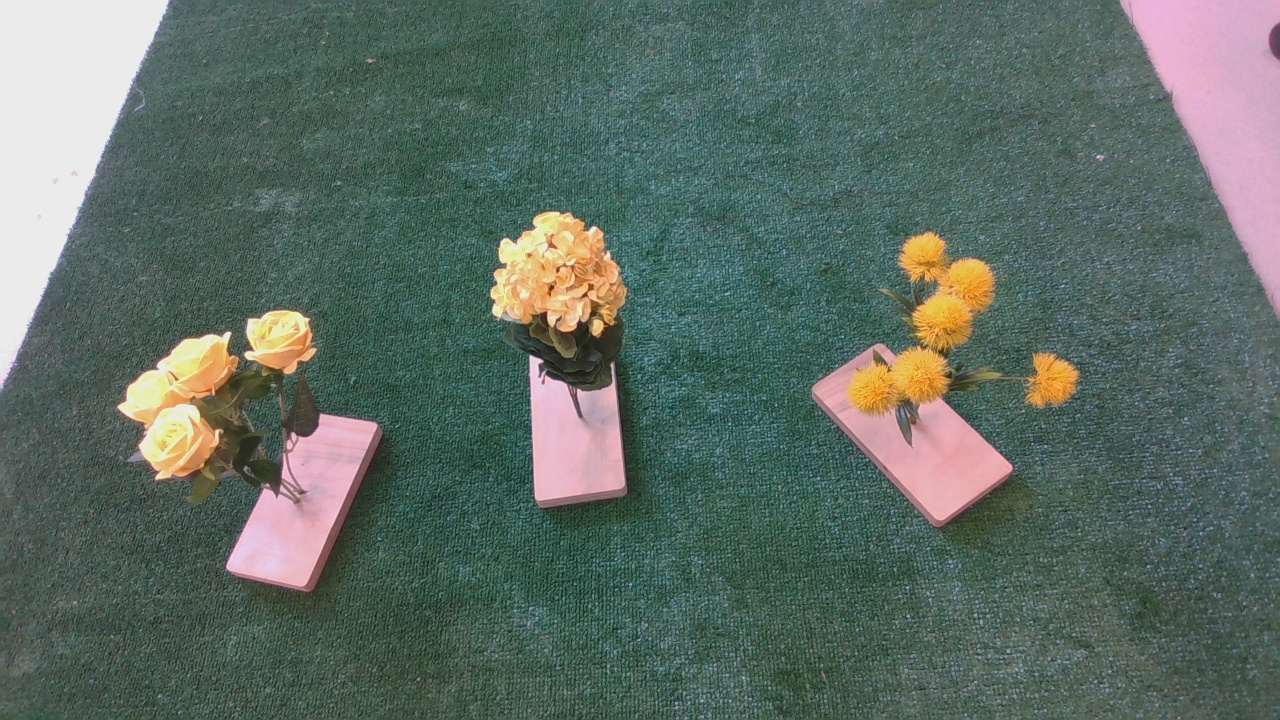dandelion: (815, 231, 1094, 425)
geranium: (467, 192, 640, 406)
rose: (115, 309, 335, 517)
